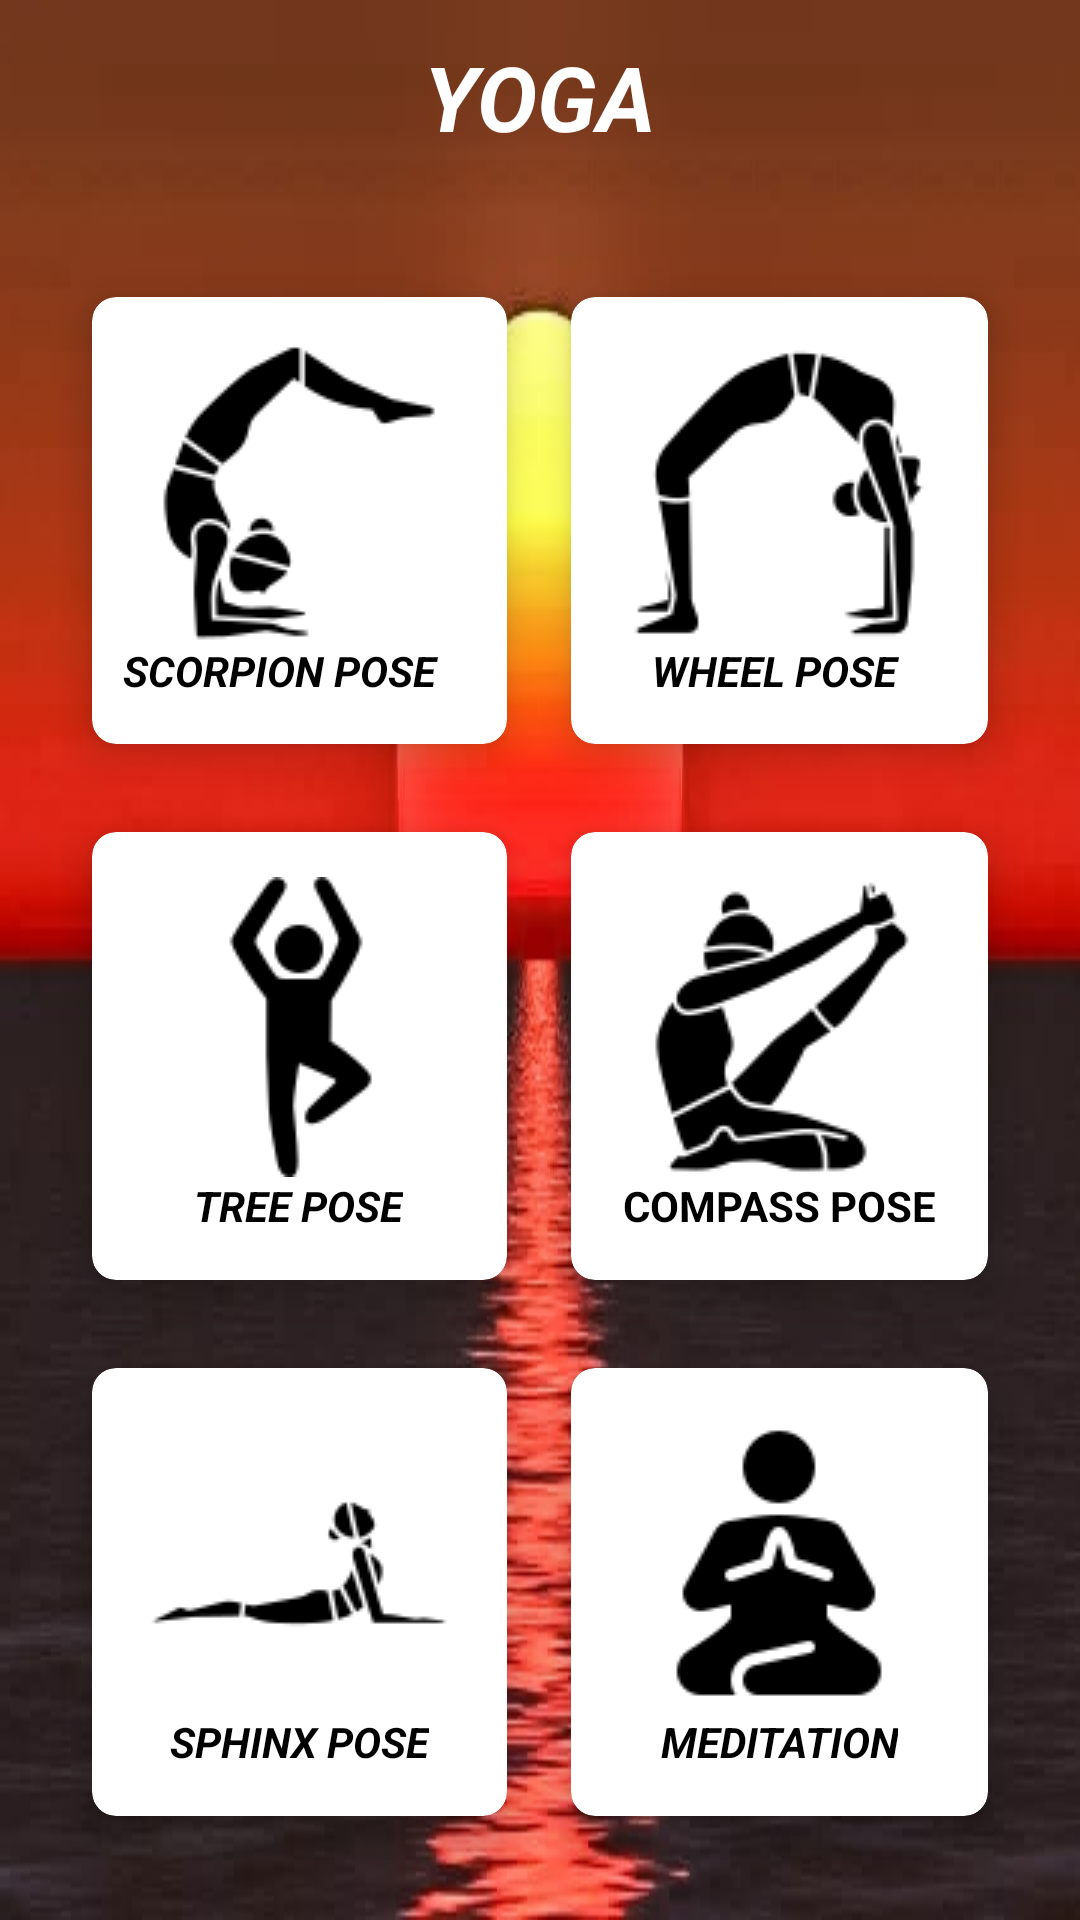

Named icons in this screenshot (1080 × 1920) and their centers, [x,y]:
yoga: [299,493], [779,493], [782,1027], [299,1563]
